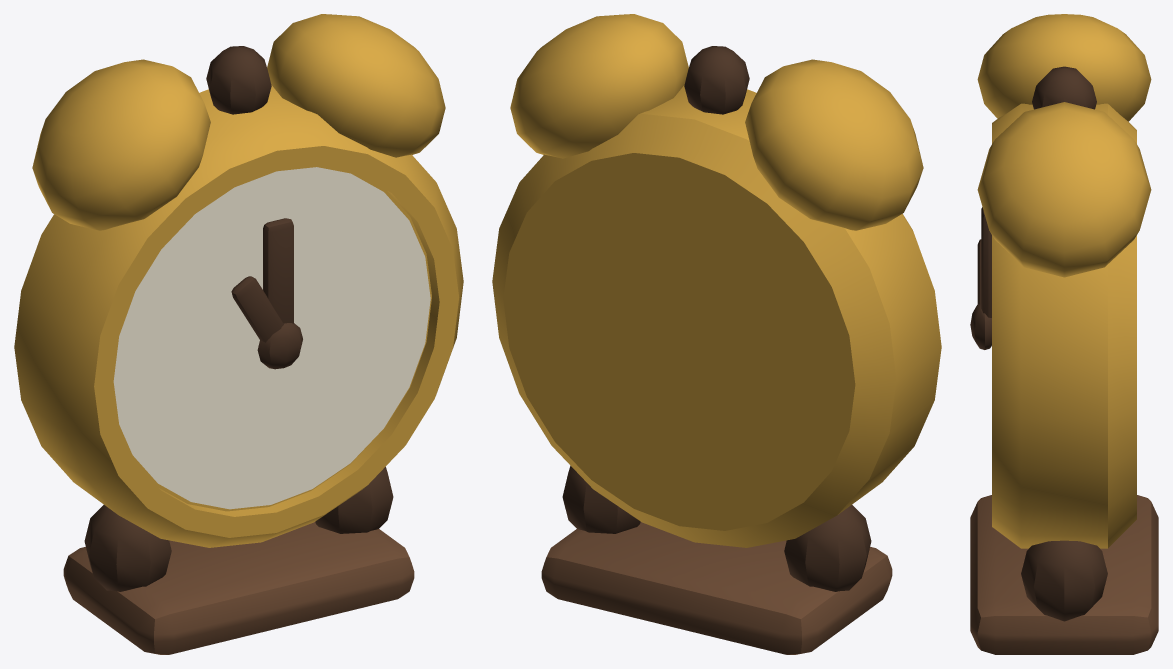
The model's file is sig_clock.gltf.
3 renders of one model, left to right at view 1: azimuth 30°, elevation 25°; view 2: azimuth 150°, elevation 25°; view 3: azimuth 270°, elevation 25°, orthographic. The views are drawn at different scales.
Visible parts, largest first — view 1: sig_clock; view 2: sig_clock; view 3: sig_clock.
Part boxes in pixels (bbox=[...]): sig_clock: bbox=[14, 14, 463, 654]; sig_clock: bbox=[492, 14, 941, 654]; sig_clock: bbox=[970, 14, 1158, 654].
Bounding box in the file's own units: 1 × 1.31 × 0.4194.
